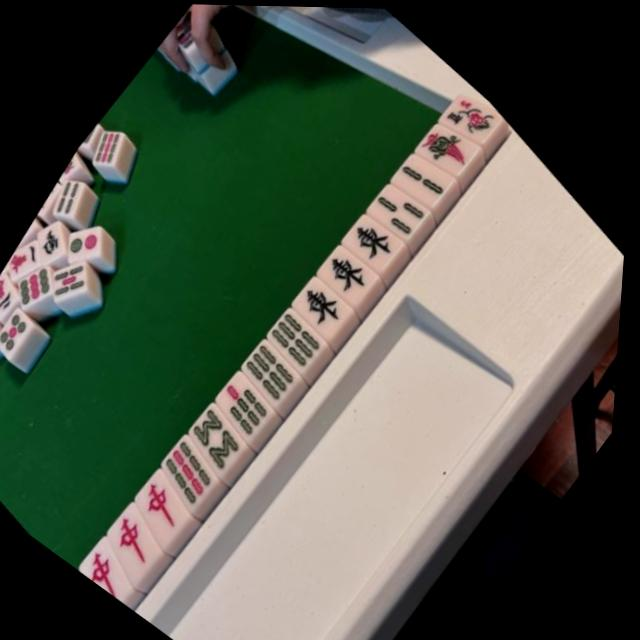bs2: (436, 74, 513, 147)
hdr: (97, 494, 172, 563), (125, 460, 199, 528), (72, 530, 144, 594)
hwe: (311, 229, 387, 299), (286, 262, 361, 332), (338, 198, 410, 265)
sb1: (411, 105, 487, 176)
sb2: (389, 138, 461, 203)
sb3: (364, 165, 440, 236)
sb6: (259, 292, 337, 365), (231, 326, 310, 398)
sb7: (205, 357, 285, 432)
sb8: (177, 391, 257, 465)
sb9: (149, 424, 230, 499)
